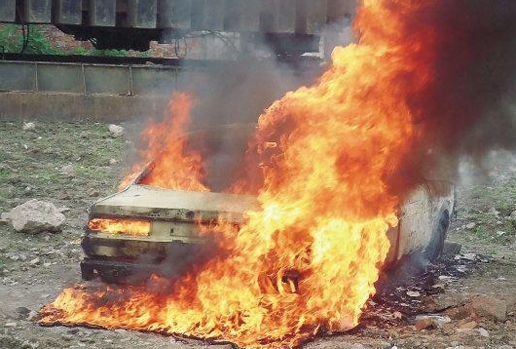fire: (75, 28, 431, 342)
